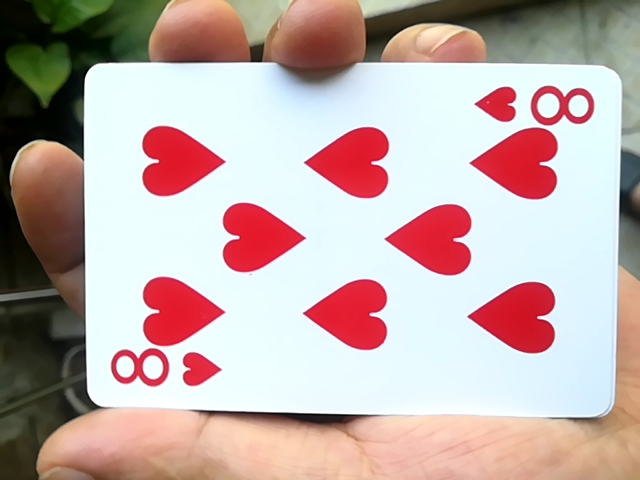hx 8: (71, 56, 636, 417)
